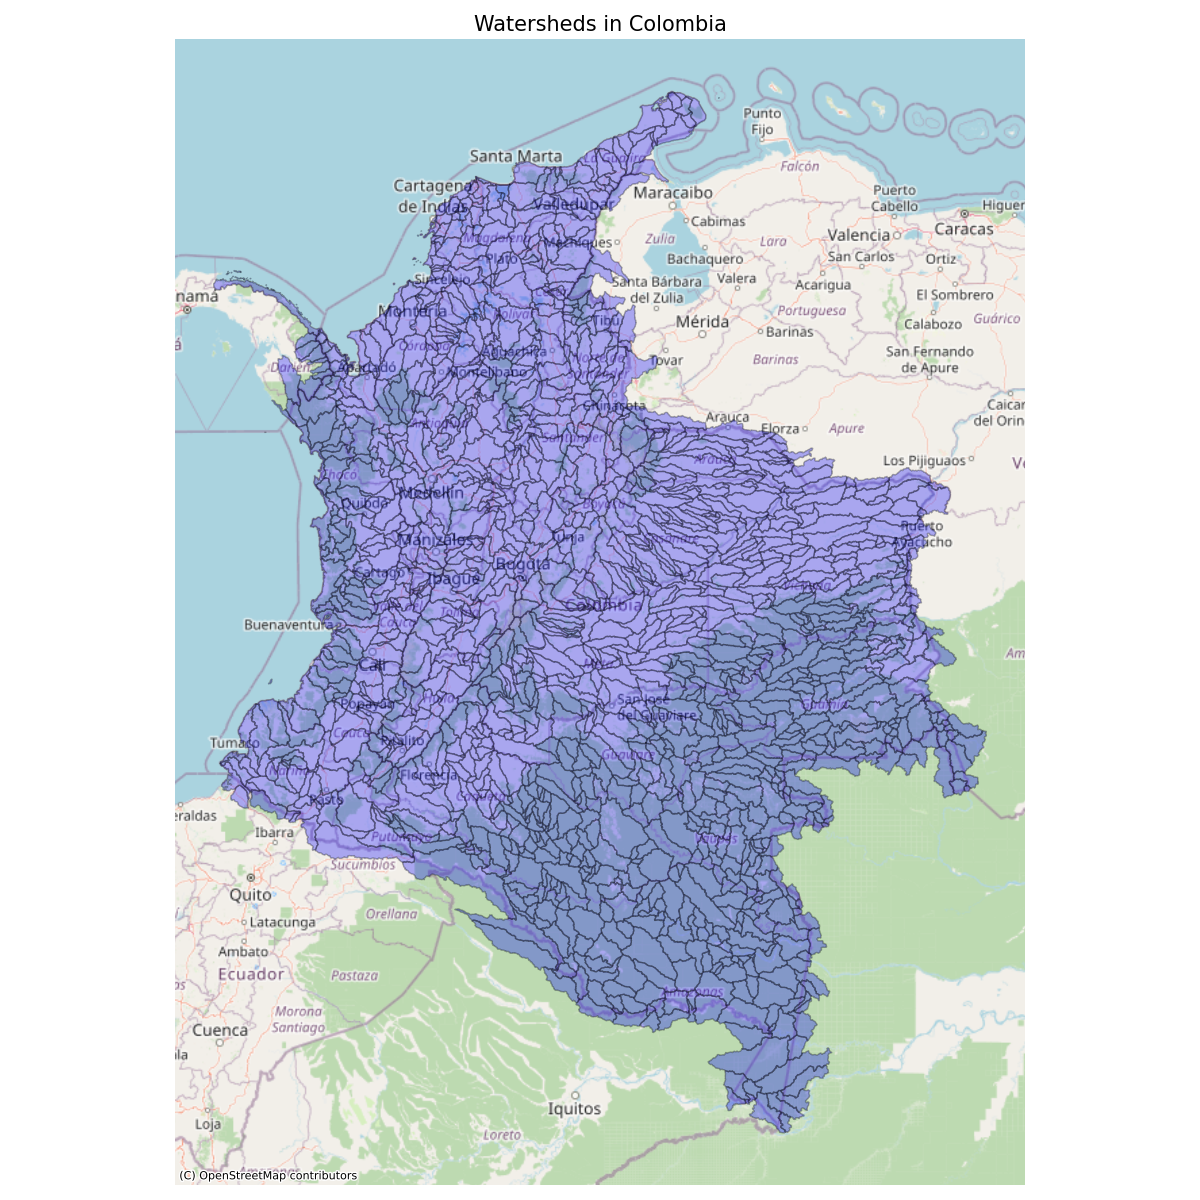

What the dashboard file says about the page in this screenshot:
{"tool":"powerbi","page":{"name":"Página 1","canvas":[1280,720],"ordinal":1},"visuals":[{"type":"map","fields":{"Y":["raw_coords.Latitud"],"X":["raw_coords.Longitud"]},"box":[9.7,0,482.4,607.9],"z":0}]}

Visuals, with their boxes on the page's 1280x720 design canvas (x1, y1, x2, y2). These are canvas units, not pixel positions in the 1200x1200 screenshot, which may show the page scaled, cropped or inside an application window:
map - raw_coords.Latitud x raw_coords.Longitud: rect(10, 0, 492, 608)
